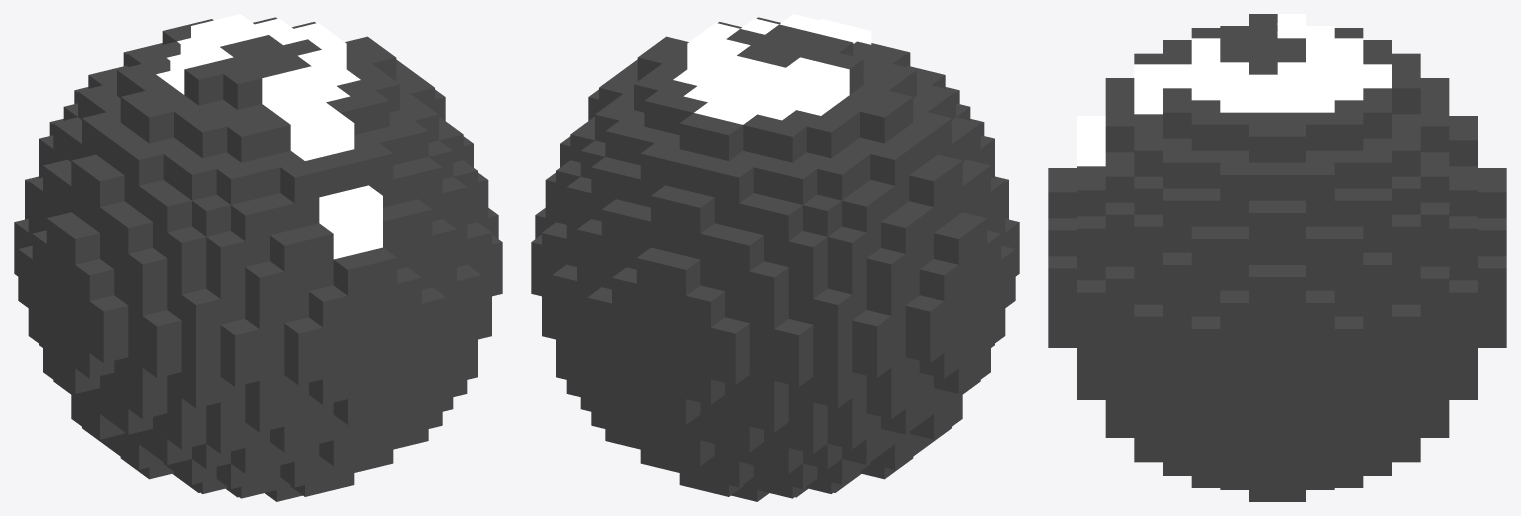
Rendered from item_UNSTABLE_SPELL.glb.
3 renders of one model, left to right at view 1: azimuth 30°, elevation 25°; view 2: azimuth 150°, elevation 25°; view 3: azimuth 270°, elevation 25°, orthographic.
Parts seen in each view (by area): view 1: item_UNSTABLE_SPELL; view 2: item_UNSTABLE_SPELL; view 3: item_UNSTABLE_SPELL.
Part boxes in pixels (x1,y1,x2,y2): item_UNSTABLE_SPELL: (14,14,502,501); item_UNSTABLE_SPELL: (531,14,1019,501); item_UNSTABLE_SPELL: (1048,14,1506,501).
Bounding box in the file's own units: 0.1818 × 0.1818 × 0.1818.
Materials: 1 (1 with a texture image).
